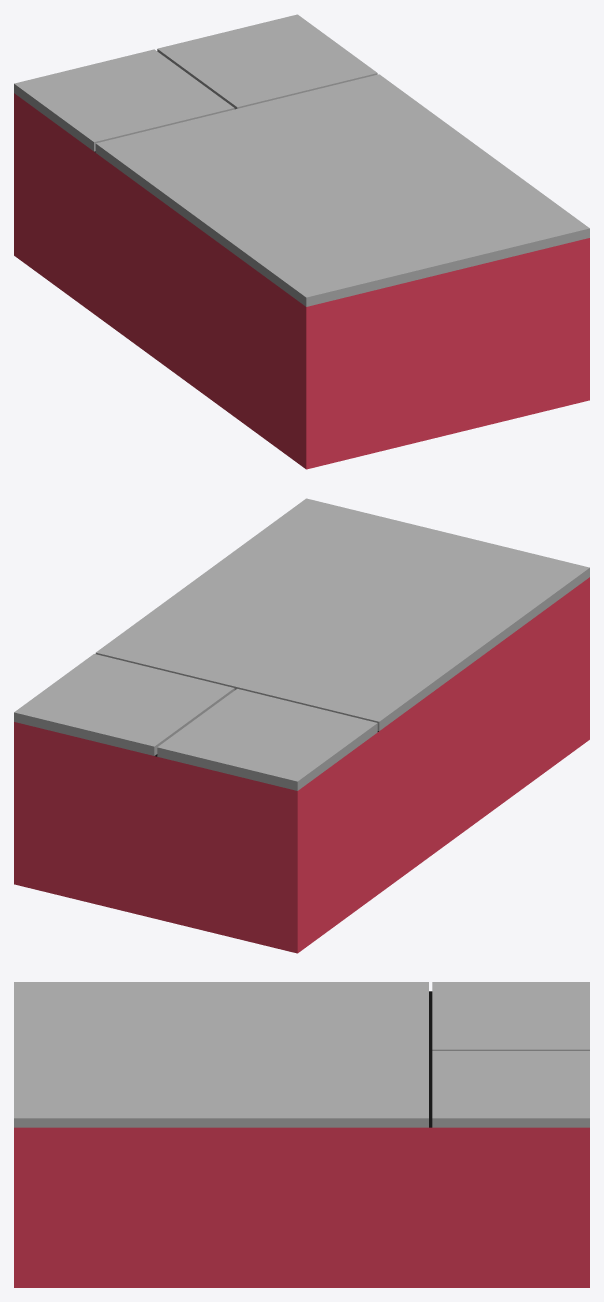
File: Itr_Obj_Mouse_03.FBX
3 views of the same model, one above another, from view 1: azimuth 30°, elevation 25°; view 2: azimuth 150°, elevation 25°; view 3: azimuth 270°, elevation 25° (orthographic).
Parts seen in each view (by area): view 1: Itr_Obj_Mouse_03; view 2: Itr_Obj_Mouse_03; view 3: Itr_Obj_Mouse_03.
Part boxes in pixels (x1,y1,x2,y2): Itr_Obj_Mouse_03: (14,14,589,469); Itr_Obj_Mouse_03: (14,498,589,953); Itr_Obj_Mouse_03: (14,982,589,1287).
Size of the model in its own units: 2.75 by 1.6 by 4.92.
